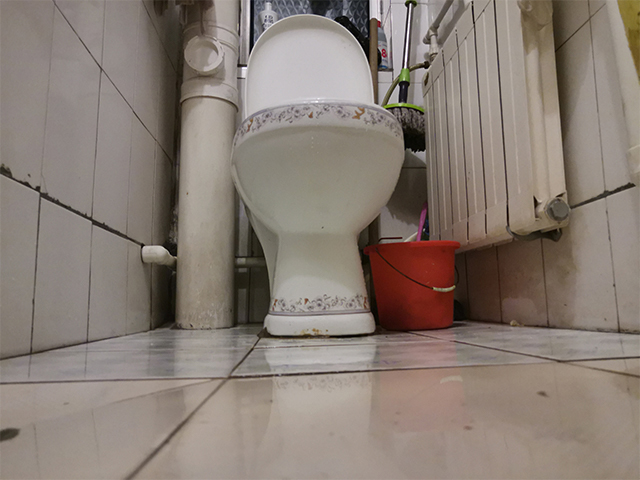closestool: (222, 12, 409, 339)
